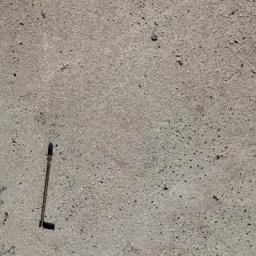FOD: (38, 142, 63, 236)
